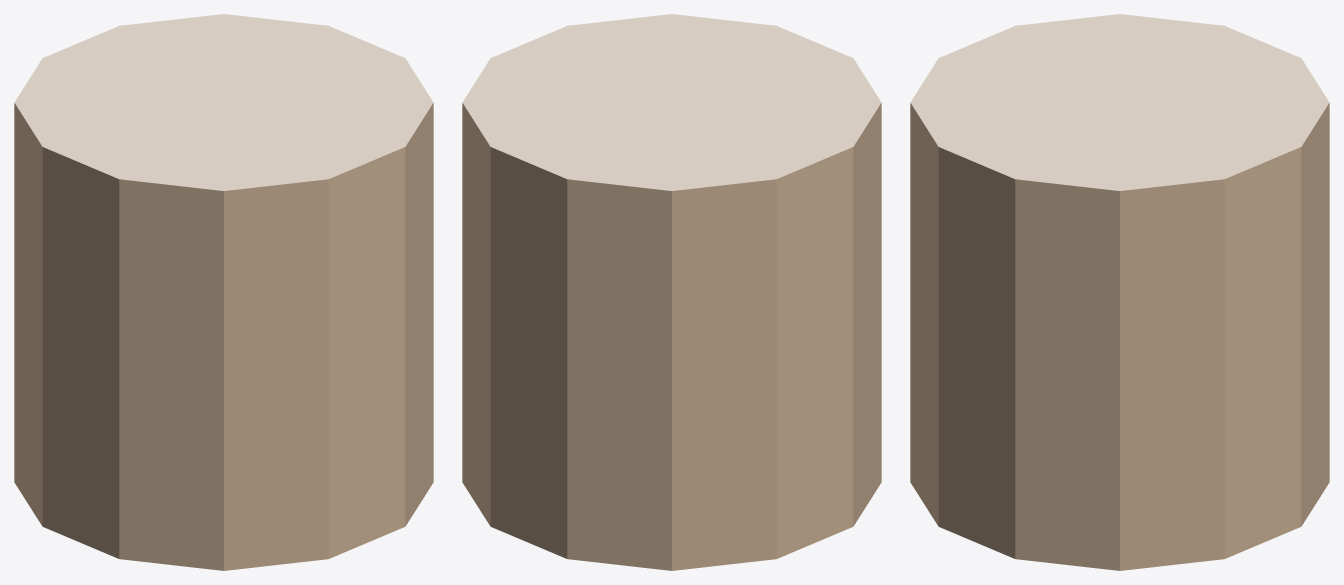
The model's file is Tower_Center_Pillar.fbx.
3 views of the same model, side by side, from view 1: azimuth 30°, elevation 25°; view 2: azimuth 150°, elevation 25°; view 3: azimuth 270°, elevation 25° (orthographic).
Parts seen in each view (by area): view 1: object1, Sandstone_Floor; view 2: object1, Sandstone_Floor; view 3: object1, Sandstone_Floor.
Part boxes in pixels (left/top/right/bottom): object1: left=14, top=103, right=433, bottom=570; Sandstone_Floor: left=14, top=14, right=433, bottom=190; object1: left=462, top=103, right=881, bottom=570; Sandstone_Floor: left=462, top=14, right=881, bottom=190; object1: left=910, top=103, right=1329, bottom=570; Sandstone_Floor: left=910, top=14, right=1329, bottom=190.
Size of the model in its own units: 1 by 1 by 1.
